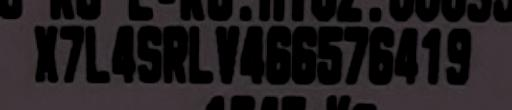letter: (210, 19, 244, 85), (26, 23, 62, 83), (442, 27, 476, 87), (132, 23, 166, 82), (262, 25, 294, 87), (236, 23, 268, 83), (342, 23, 374, 83), (366, 25, 398, 85), (394, 25, 424, 87), (186, 25, 218, 83), (58, 23, 88, 83), (108, 23, 138, 83), (160, 23, 190, 83), (290, 25, 320, 85), (316, 23, 344, 85), (418, 25, 444, 87), (86, 23, 112, 83)
